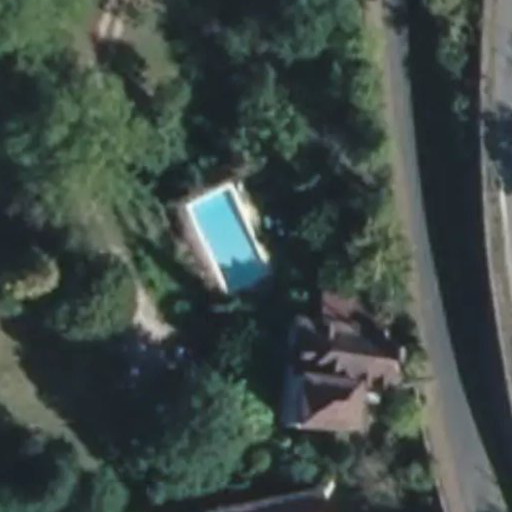pool: (193, 208, 280, 275)
